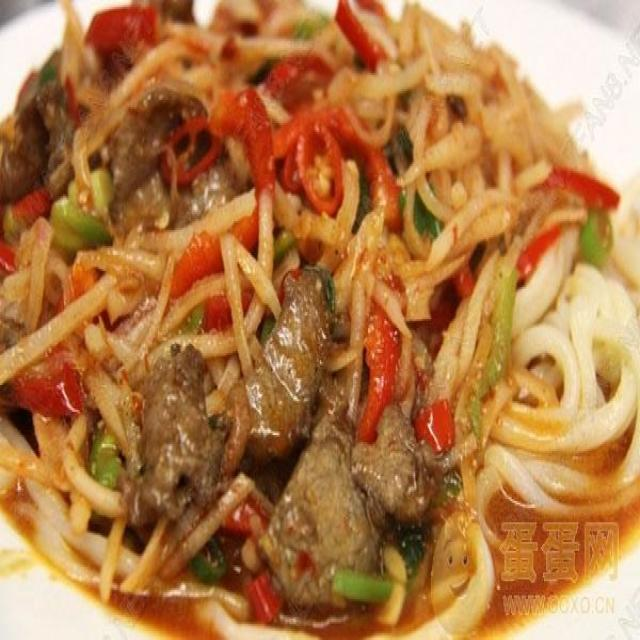面条主食: (1, 7, 632, 631)
